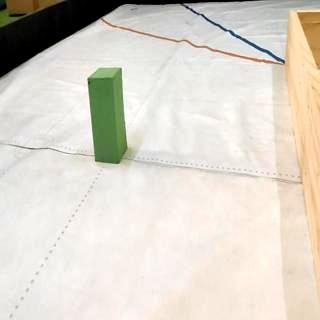greenbox: (88, 68, 128, 164)
